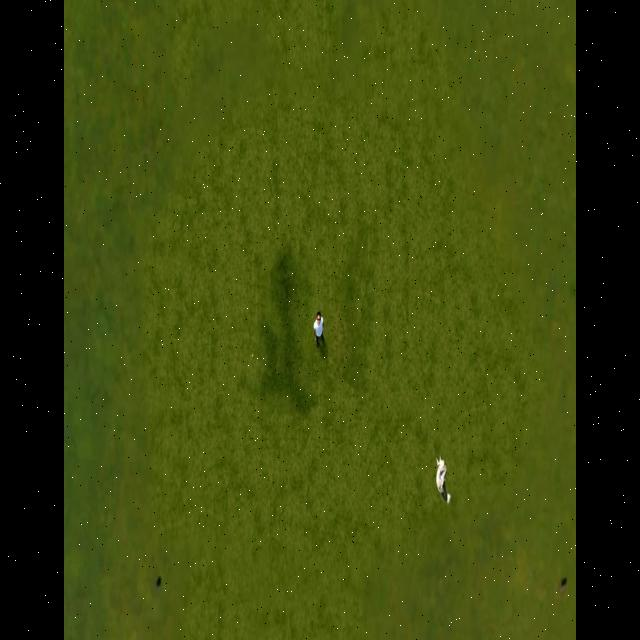humans: (310, 304, 328, 355)
